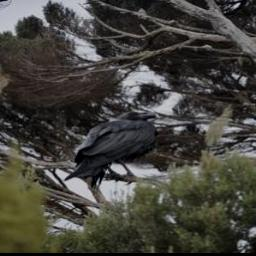Crow: (65, 110, 160, 191)
